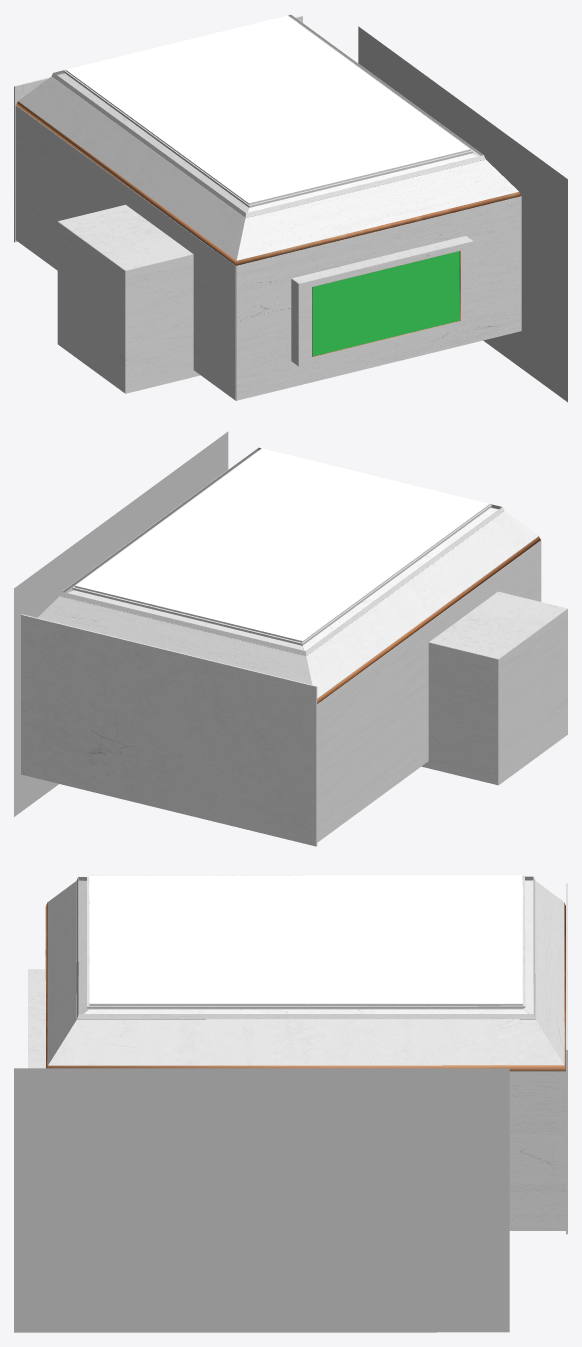
The model's file is salaV4.fbx.
3 renders of one model, top to bottom at view 1: azimuth 30°, elevation 25°; view 2: azimuth 150°, elevation 25°; view 3: azimuth 270°, elevation 25°, orthographic. The views are drawn at different scales.
Visible parts, largest first — view 1: Modern Living Room, Modern Living Room_Walls_0.001, Cube; view 2: Modern Living Room, Cube, Modern Living Room_Walls_0.001; view 3: Modern Living Room, Modern Living Room_Walls_0.001, Cube.
Part boxes in pixels (x1,y1,x2,y2): Modern Living Room: (15, 14, 567, 402); Modern Living Room_Walls_0.001: (65, 15, 470, 203); Cube: (14, 16, 302, 242); Modern Living Room: (14, 431, 567, 842); Cube: (21, 614, 317, 846); Modern Living Room_Walls_0.001: (75, 448, 489, 640); Modern Living Room: (14, 875, 565, 1332); Modern Living Room_Walls_0.001: (89, 875, 522, 1003); Cube: (566, 883, 567, 1234).
Size of the model in its own units: 3304 by 3459 by 2006.
15 materials, 7 textured.
